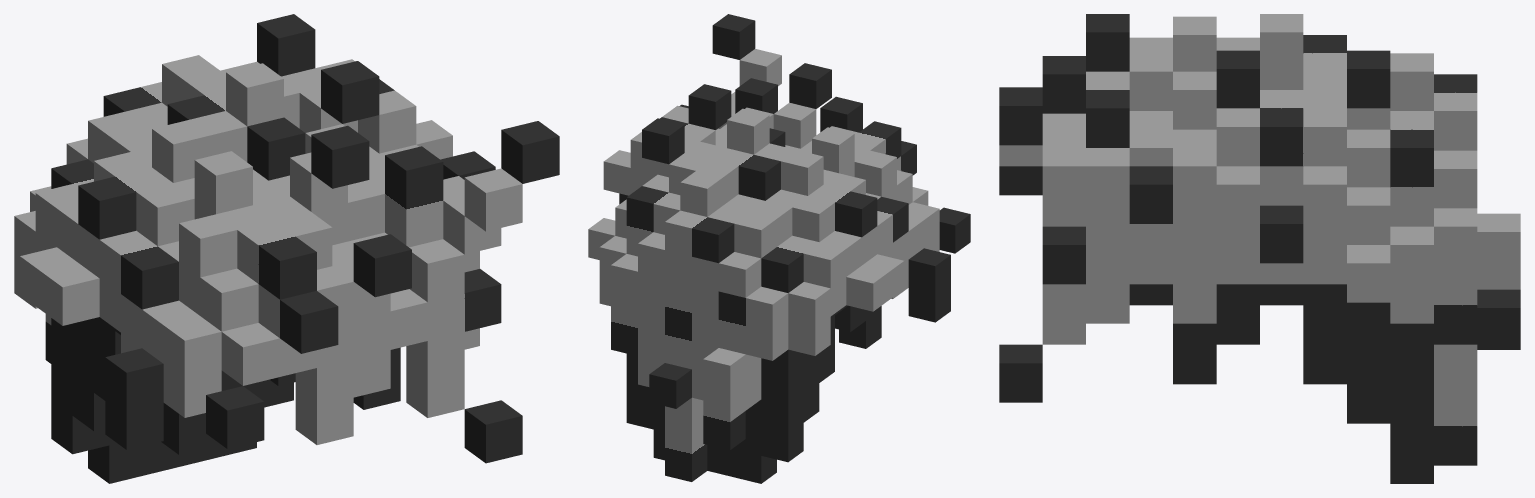
File: wlos9.dae
3 views of the same model, side by side, from view 1: azimuth 30°, elevation 25°; view 2: azimuth 150°, elevation 25°; view 3: azimuth 270°, elevation 25° (orthographic). The views are drawn at different scales.
Visible parts, largest first — view 1: Content; view 2: Content; view 3: Content.
Boxes of the visible parts, bbox=[...] form: Content: bbox=[14, 14, 559, 483]; Content: bbox=[588, 14, 970, 483]; Content: bbox=[999, 14, 1520, 483].
Bounding box in the file's own units: 10 × 11 × 12.
1 material, 1 textured.
